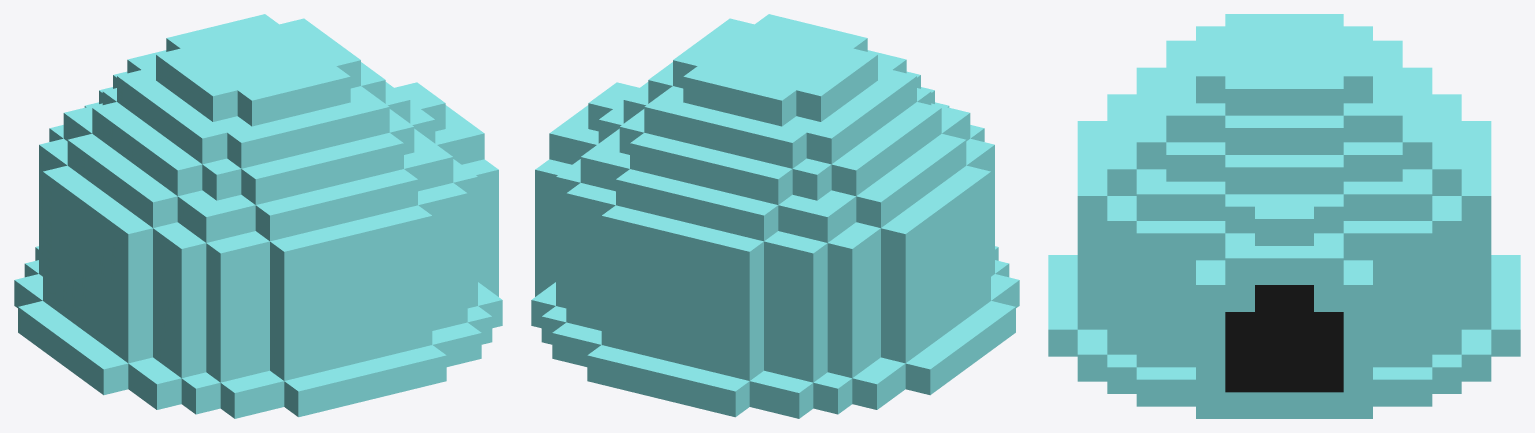
File: Igloo.obj
The picture shows the model from 3 angles, left to right: view 1: azimuth 30°, elevation 25°; view 2: azimuth 150°, elevation 25°; view 3: azimuth 270°, elevation 25°; orthographic projection. The views are drawn at different scales.
Visible parts, largest first — view 1: Igloo; view 2: Igloo; view 3: Igloo.
Boxes of the visible parts, <box> form: Igloo: <box>14,14,502,418</box>; Igloo: <box>531,14,1019,418</box>; Igloo: <box>1048,14,1520,418</box>.
Bounding box in the file's own units: 16 × 10 × 16.
1 material, 1 textured.
